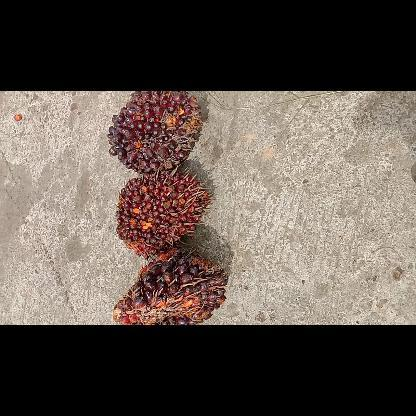Kurang masak: (115, 174, 213, 260), (107, 91, 202, 173)
TBS masak: (114, 252, 226, 324)
